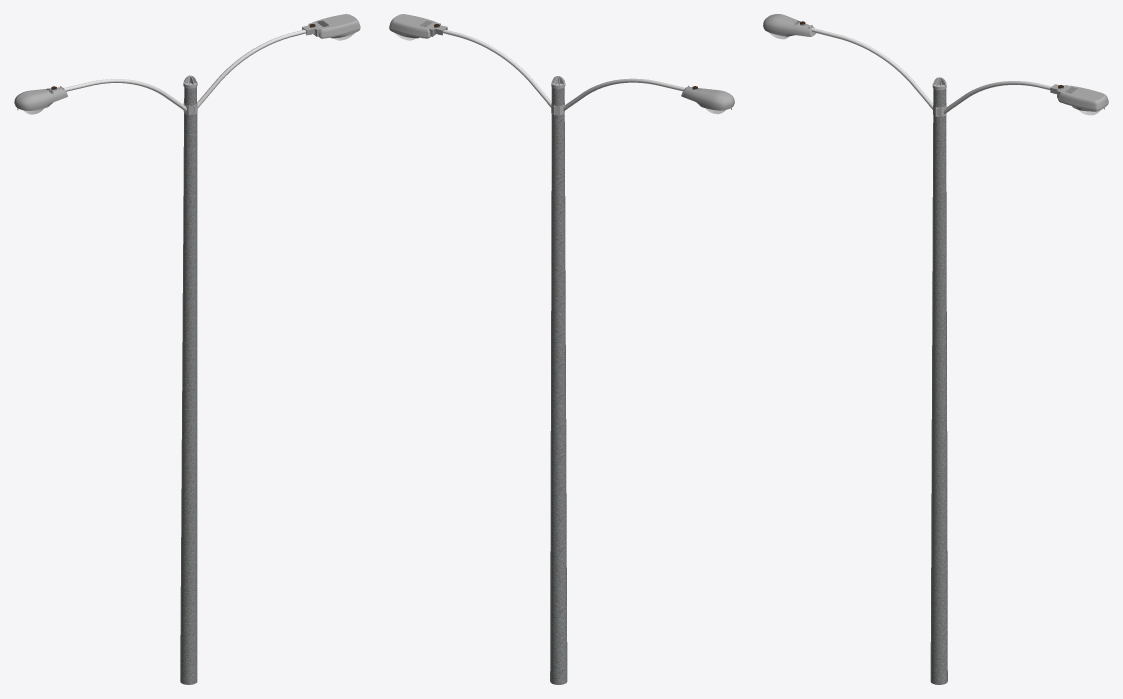
File: milwaukee_wi_streetlight.glb
The picture shows the model from 3 angles, left to right: view 1: azimuth 30°, elevation 25°; view 2: azimuth 150°, elevation 25°; view 3: azimuth 330°, elevation 25°; orthographic projection.
Visible parts, largest first — view 1: Material2 (×4); view 2: Material2 (×4); view 3: Material2 (×4).
Boxes of the visible parts, box(x1,y1,x2,y2) form: Material2 (×4): box(14, 14, 360, 684); Material2 (×4): box(389, 14, 734, 684); Material2 (×4): box(763, 14, 1108, 684).
Size of what is drawn, in the model's own units: 190 by 334 by 13.81.
34 materials, 1 textured.
